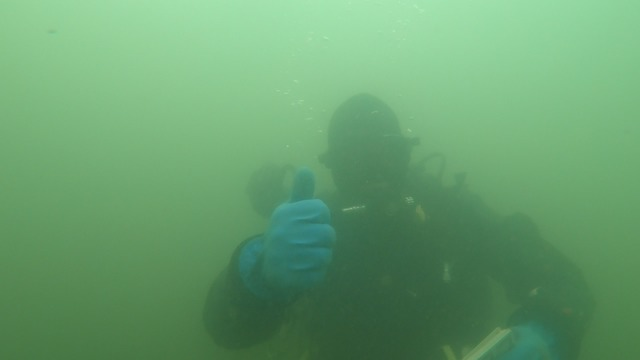Diver: (205, 90, 589, 357)
Hand: (231, 159, 357, 312), (473, 300, 573, 359)
Head: (309, 96, 432, 230)
